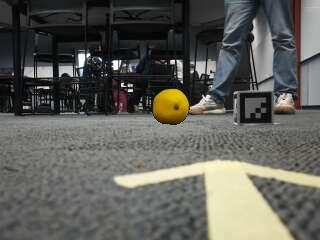lemon: (154, 89, 190, 124)
